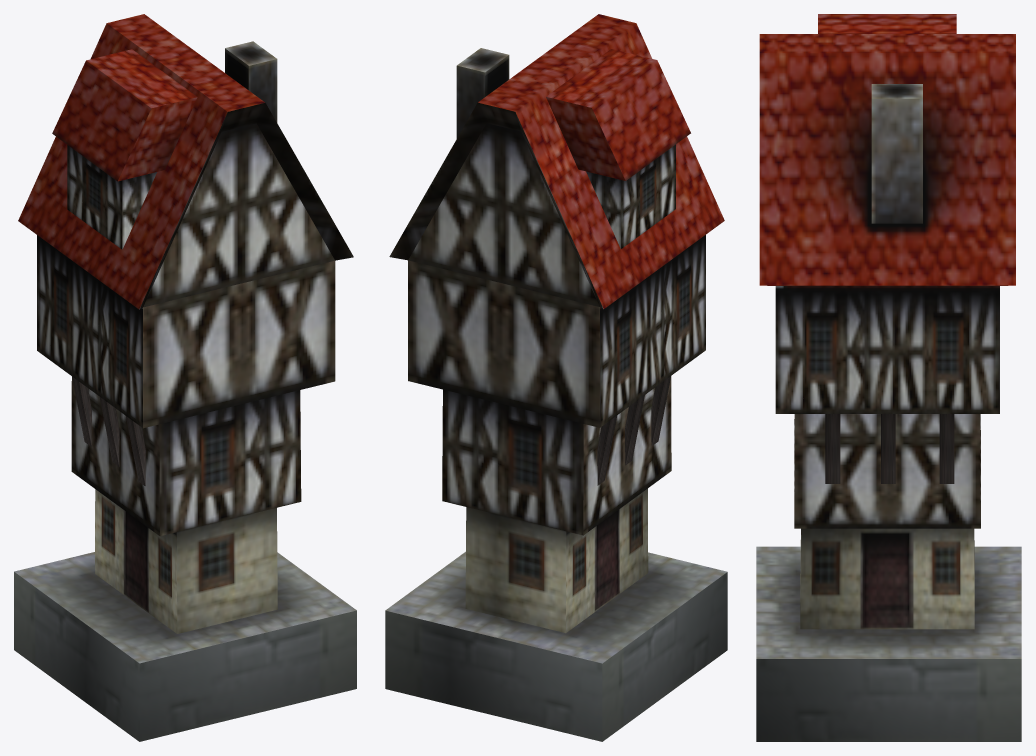
File: med_tile_big_red_hse.obj
3 renders of one model, left to right at view 1: azimuth 30°, elevation 25°; view 2: azimuth 150°, elevation 25°; view 3: azimuth 270°, elevation 25°, orthographic. The views are drawn at different scales.
Parts seen in each view (by area): view 1: boundary_big_red_house02; view 2: boundary_big_red_house02; view 3: boundary_big_red_house02.
Boxes of the visible parts, x1,y1,x2,y2 form: boundary_big_red_house02: (14, 14, 356, 741); boundary_big_red_house02: (385, 14, 727, 741); boundary_big_red_house02: (756, 14, 1021, 741).
Bounding box in the file's own units: 1 × 2.67 × 1.
Materials: 1 (1 with a texture image).
